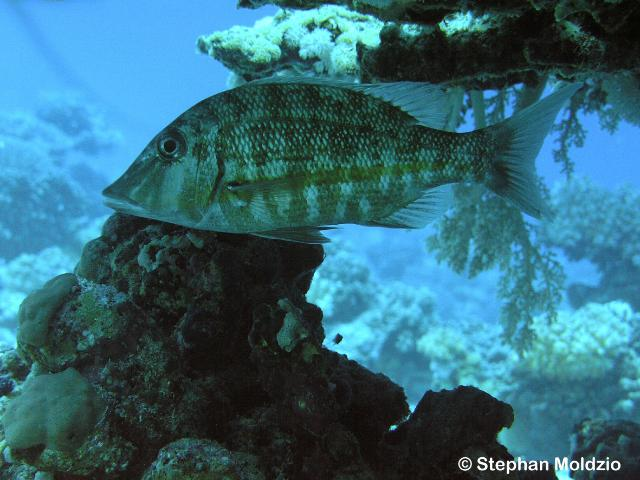Mulut: (77, 170, 169, 264)
Sirip Anal: (370, 175, 470, 237)
Sirip Dada: (228, 164, 328, 214)
Sirip Ekor: (470, 58, 582, 232)
Sirip Perut: (249, 211, 349, 269)
Sirip Punggung: (348, 61, 464, 138)
